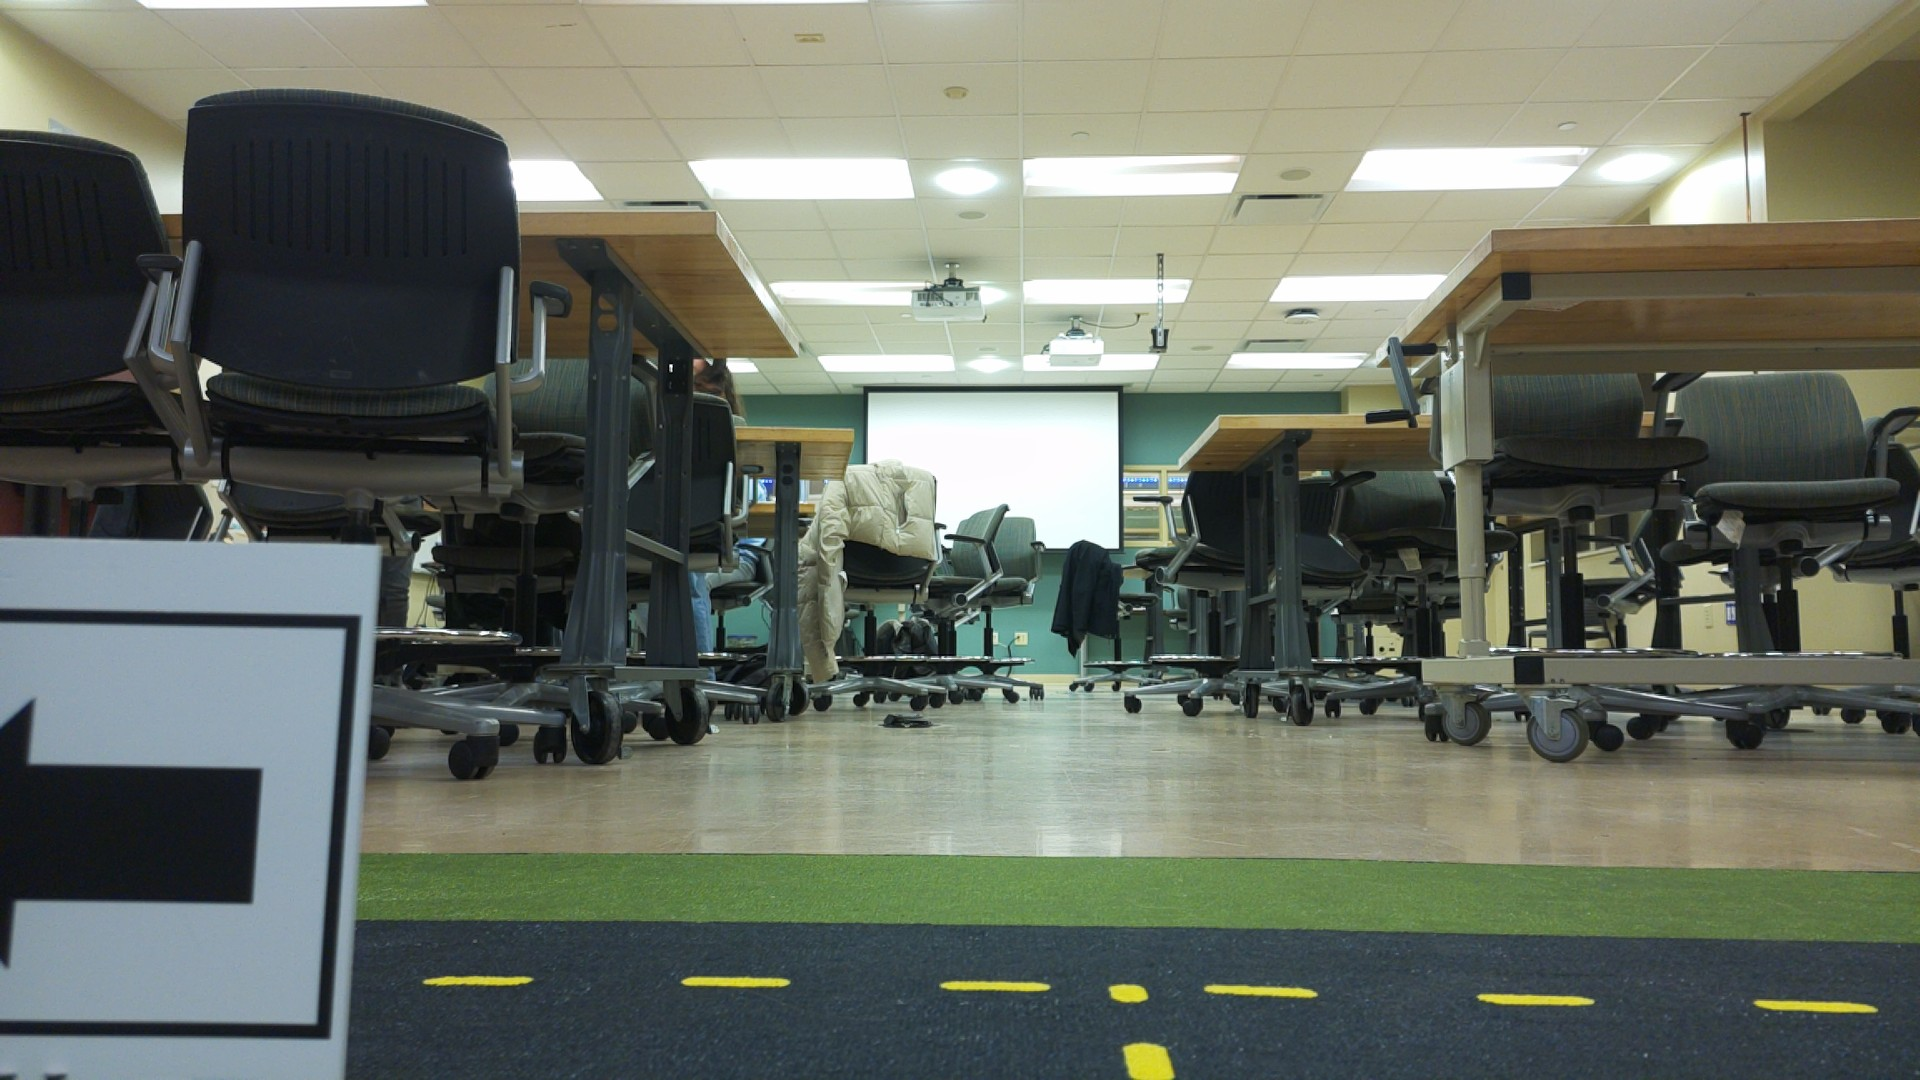turnleft: (7, 541, 342, 1080)
